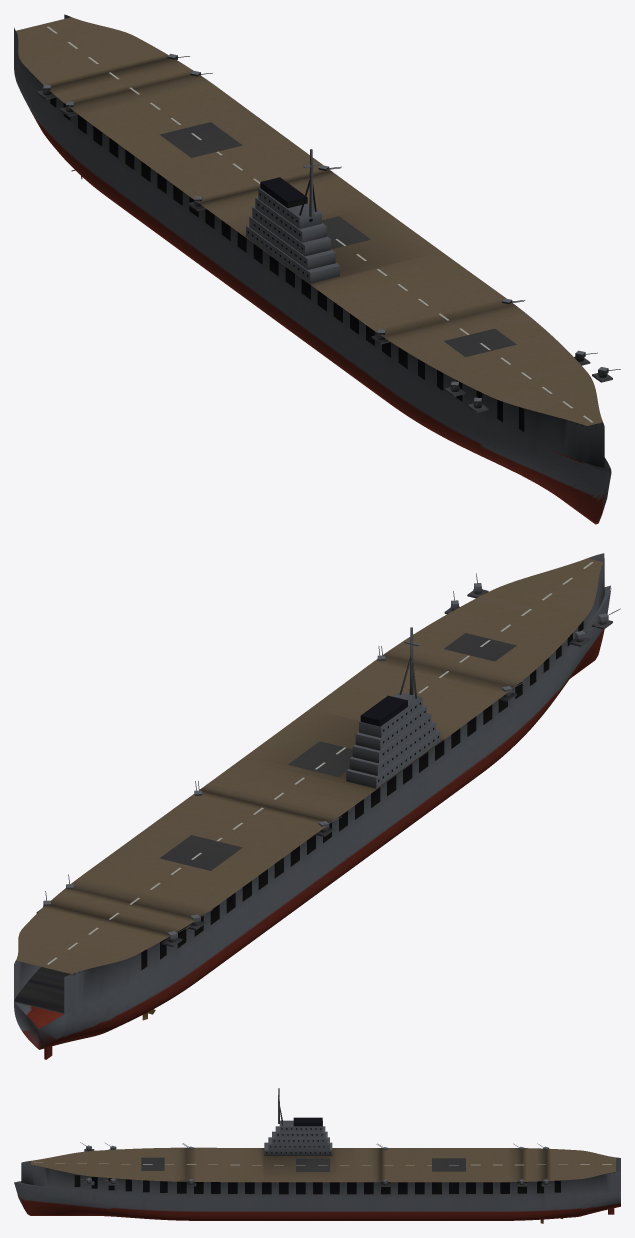
Rendered from model_built.glb.
3 views of the same model, one above another, from view 1: azimuth 30°, elevation 25°; view 2: azimuth 150°, elevation 25°; view 3: azimuth 270°, elevation 25° (orthographic). The views are drawn at different scales.
Visible parts, largest first — view 1: main; view 2: main; view 3: main.
Part boxes in pixels (x1,y1,x2,y2): main: [14, 14, 620, 524]; main: [14, 553, 620, 1059]; main: [14, 1088, 620, 1223].
Bounding box in the file's own units: 37 × 52.01 × 250.
1 material, 1 textured.
